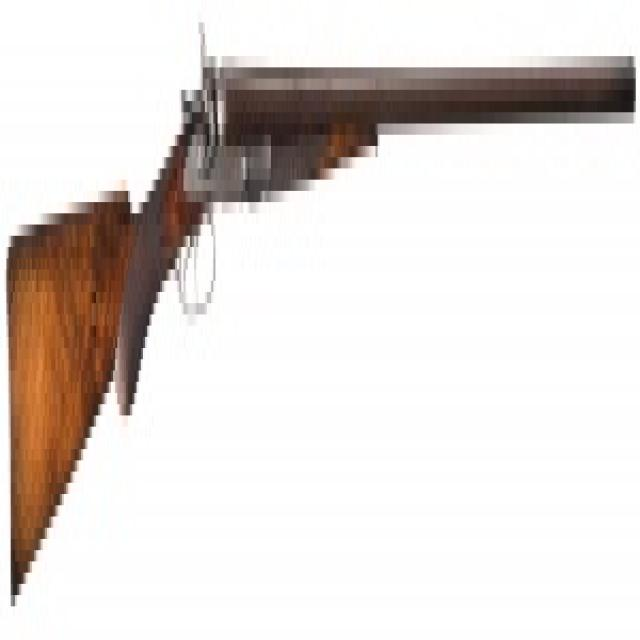rifle: (3, 1, 640, 619)
